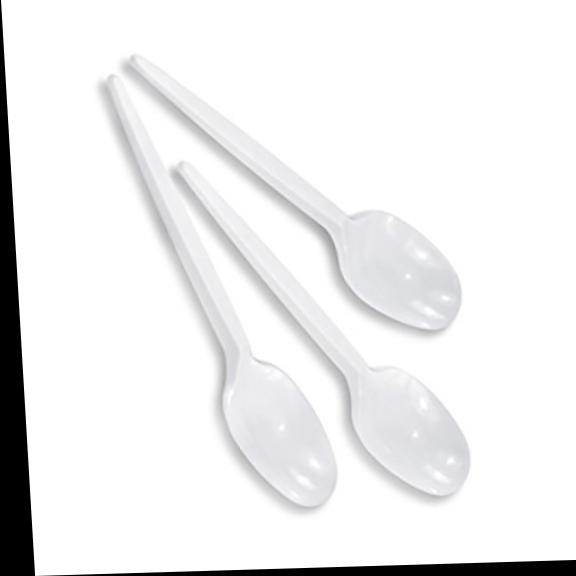Plastik: (107, 77, 335, 506), (178, 163, 468, 496), (130, 55, 460, 330)
